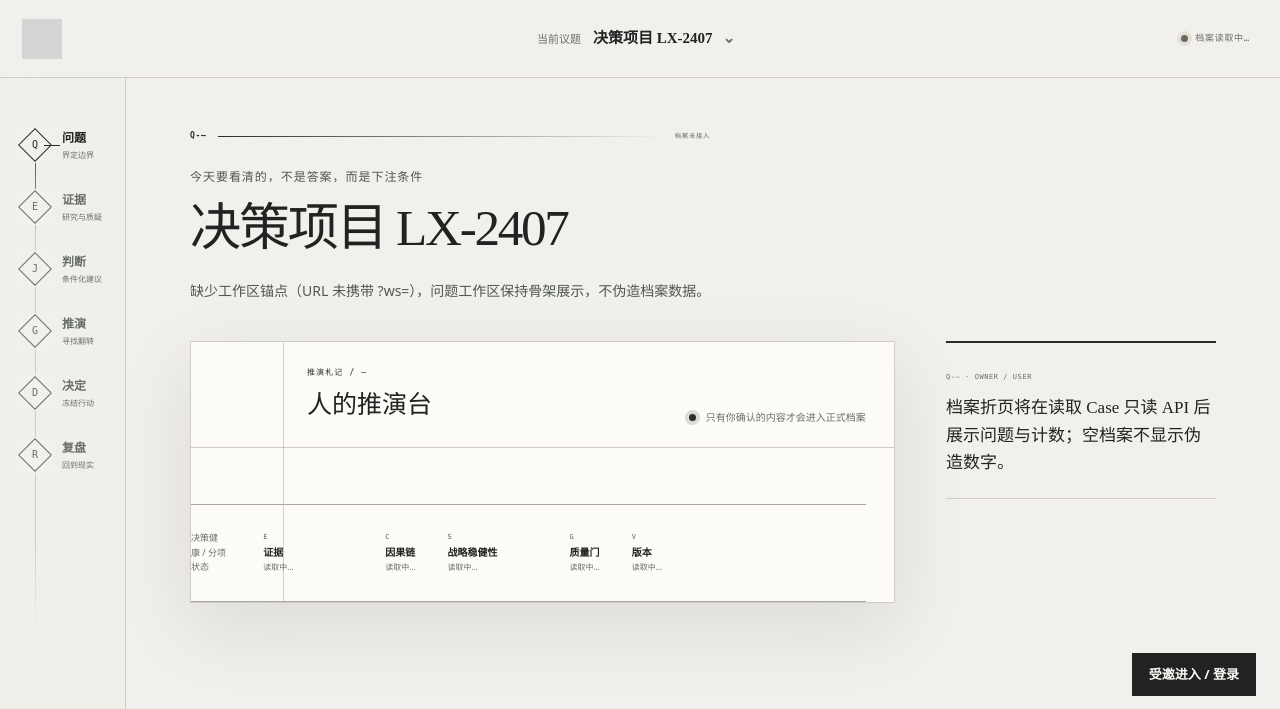
Case shell route skeleton (Task 11 Phase 0 Session A) › switches across all five workspaces with a single active structured view
Click the button "Q 问题 界定边界": (64, 145) [17,114,112,176]
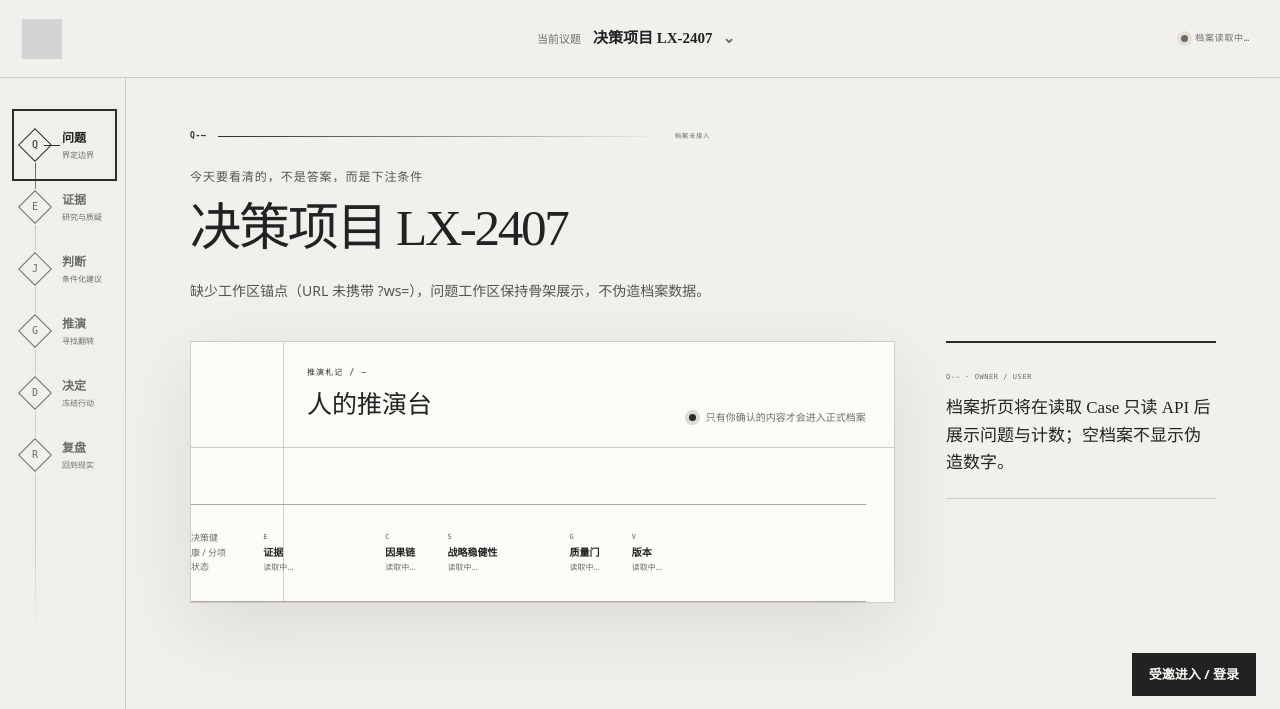
Expected: the heading "决策项目 LX-2407" is shown, [190,199,568,256]
Click the button "E 证据 研究与质疑": (64, 207) [17,176,112,238]
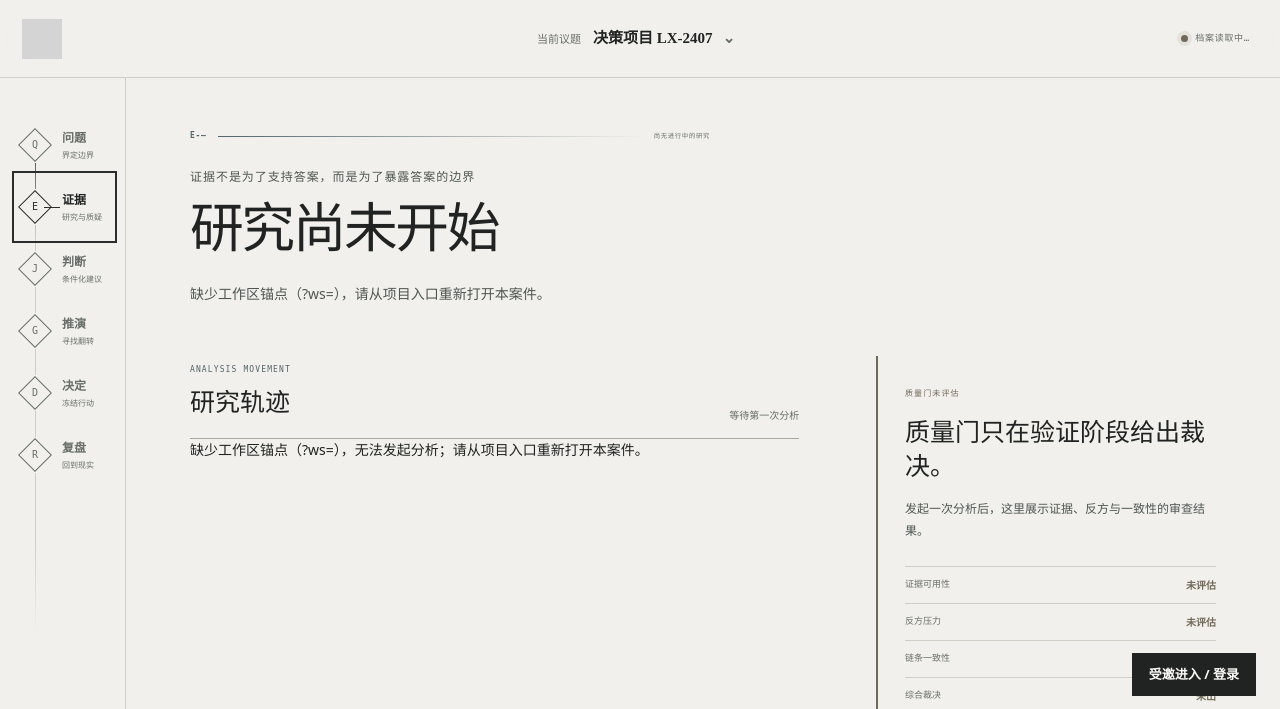
Expected: the heading "研究尚未开始" is shown, [190,199,498,259]
Click the button "J 判断 条件化建议": (64, 269) [17,238,112,300]
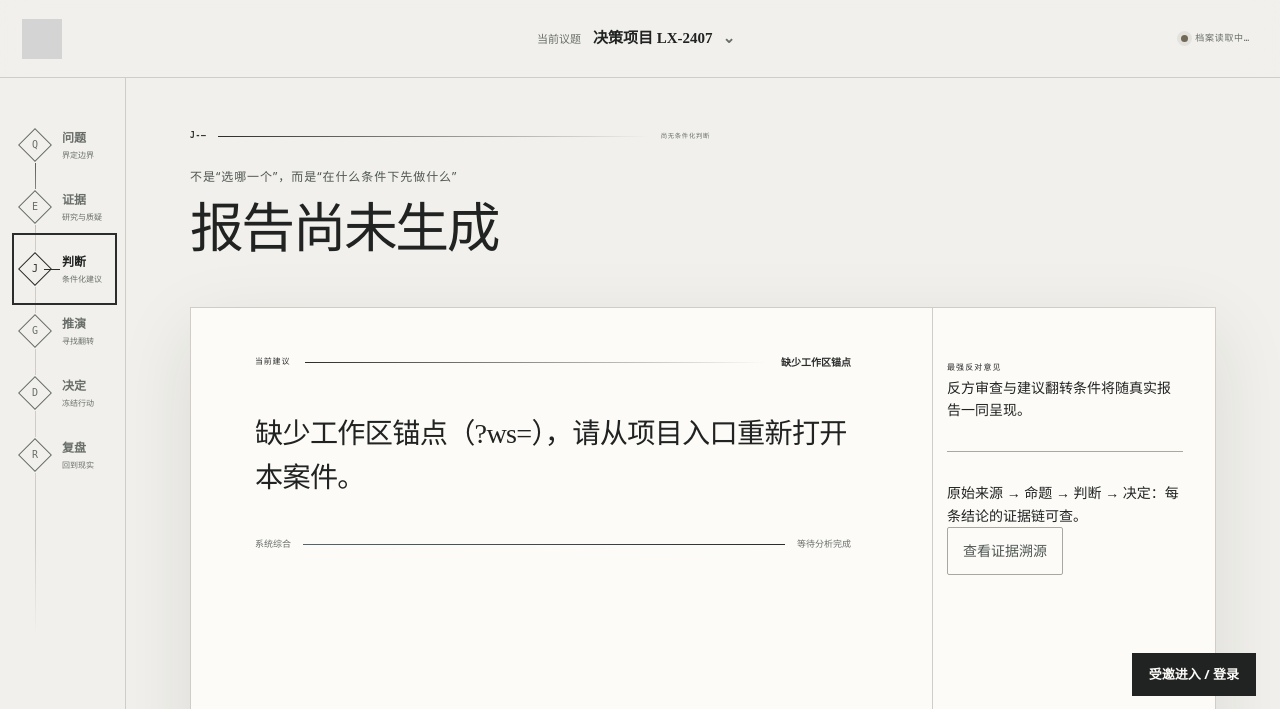
Expected: the heading "报告尚未生成" is shown, [190,199,498,259]
Click the button "G 推演 寻找翻转": (64, 331) [17,300,112,362]
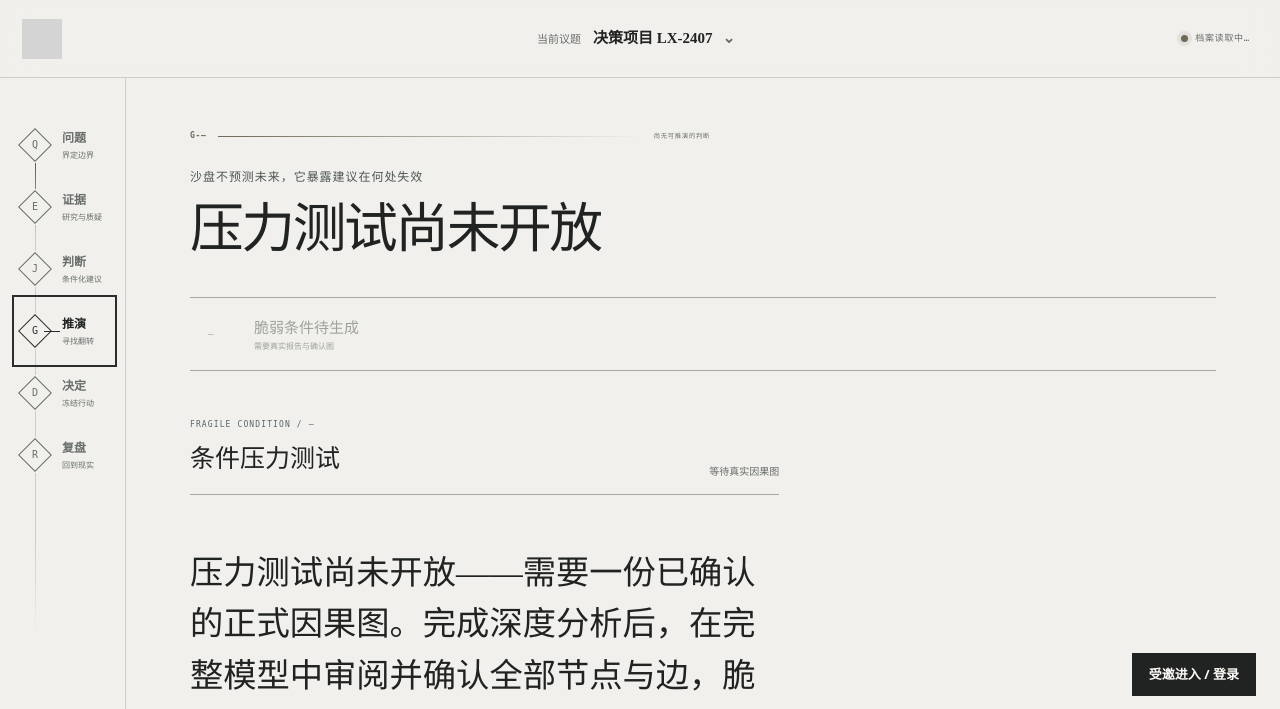
Expected: the heading "压力测试尚未开放" is shown, [190,199,601,259]
Click the button "D 决定 冻结行动": (64, 393) [17,362,112,424]
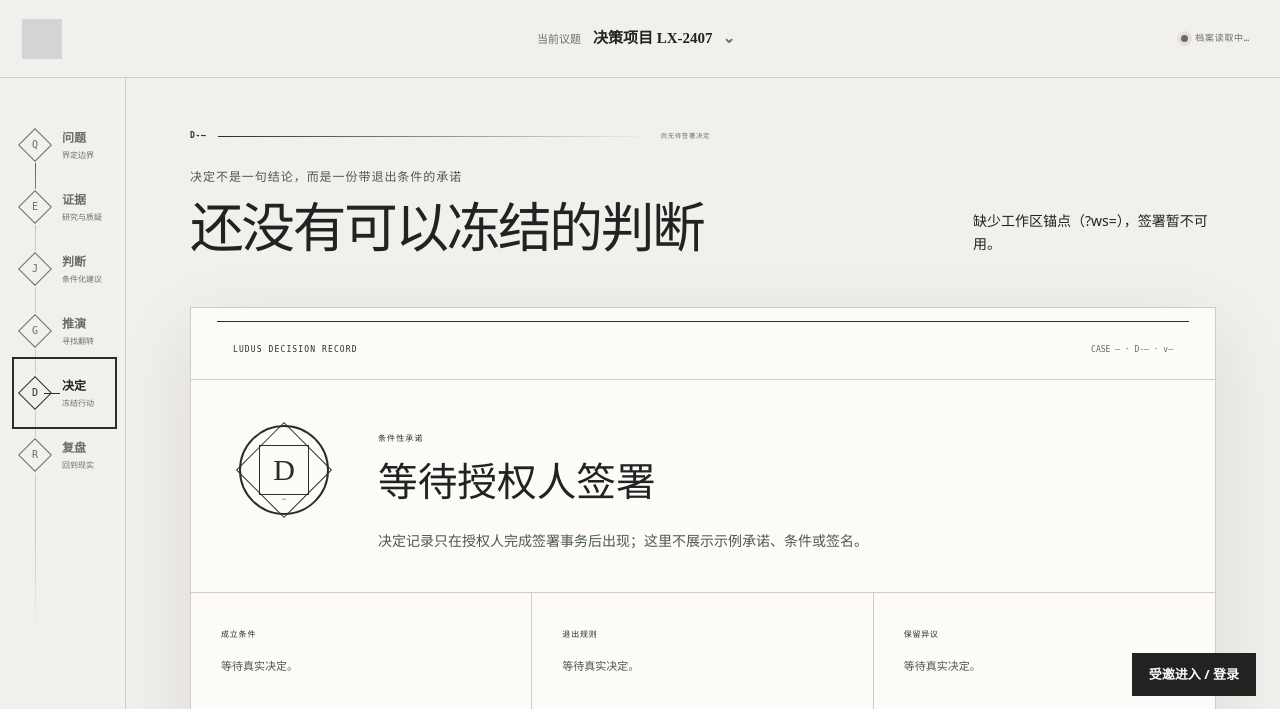
Expected: the heading "还没有可以冻结的判断" is shown, [190,199,703,259]
